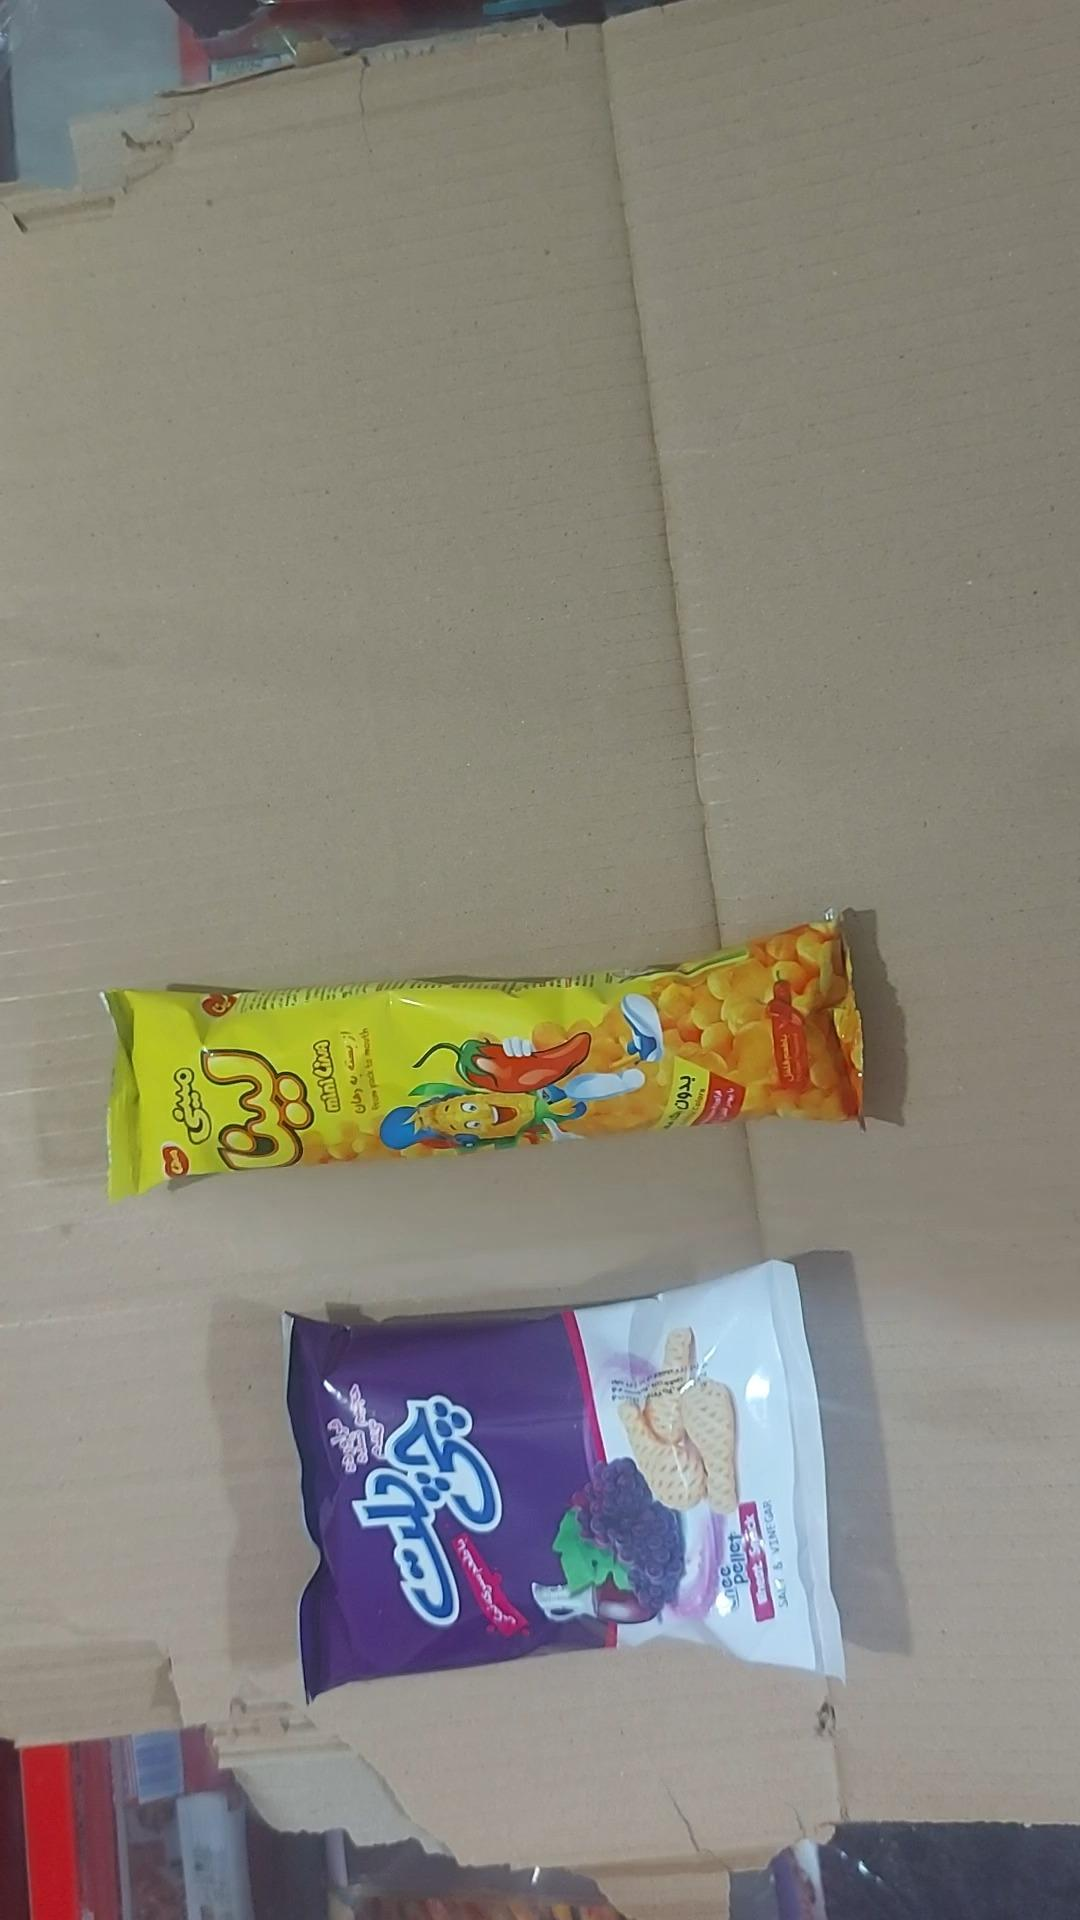Chee pellet vinegar: (286, 1263, 843, 1701)
Mini Lina: (107, 916, 862, 1199)
